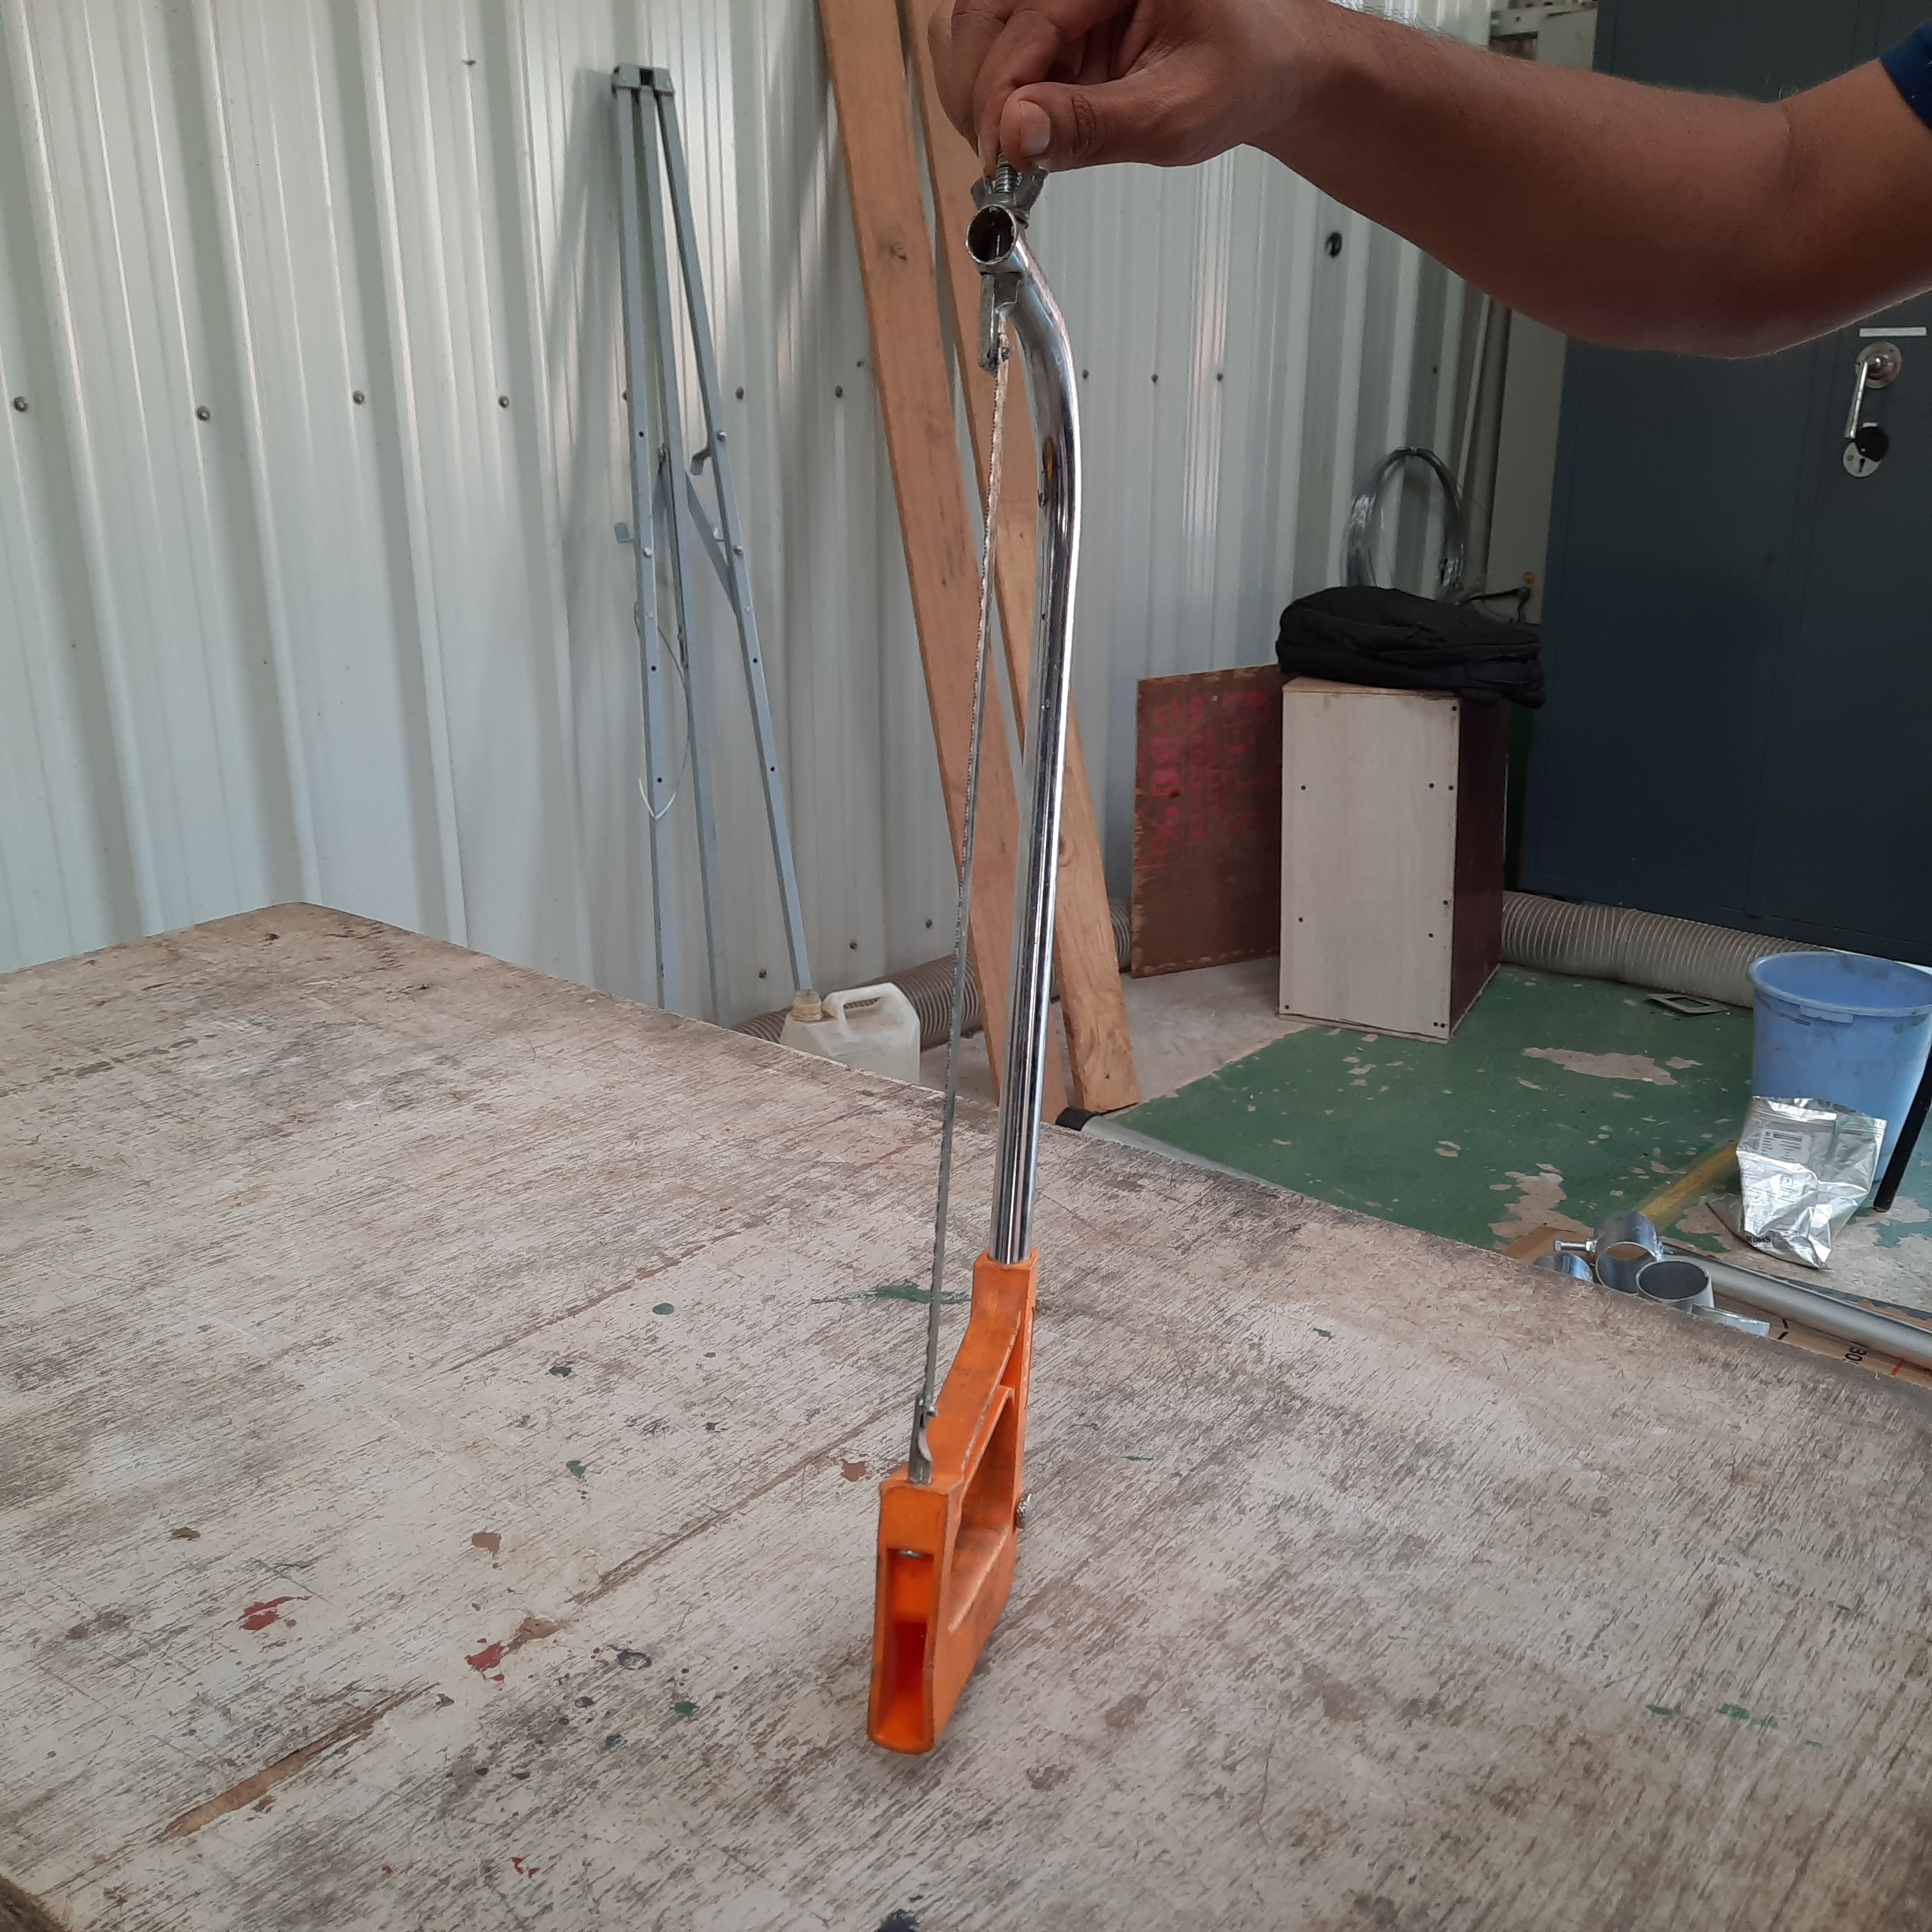Hexaframe: (855, 193, 1159, 1764)
